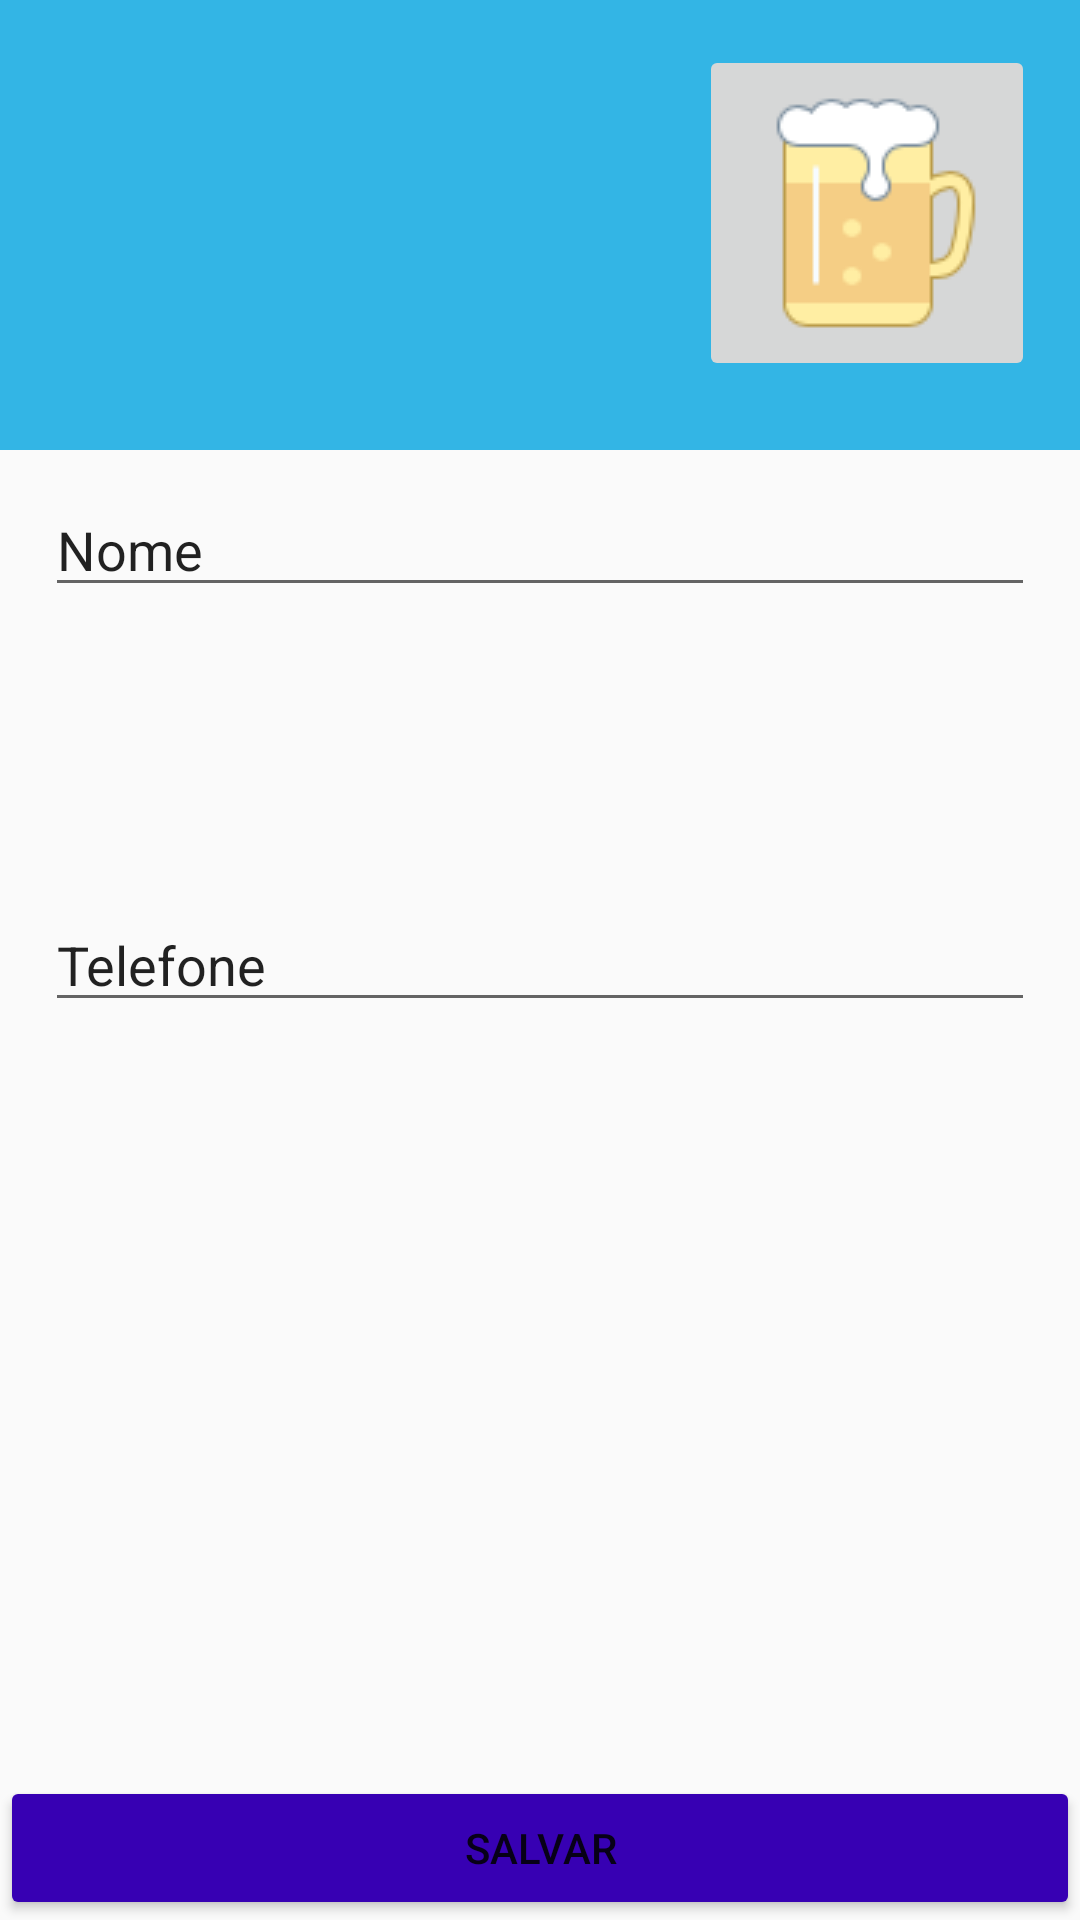

Icons on this 1080 × 1920 Android screen, each with its box as (x1, y1, x2, y2):
beer: (711, 63, 1023, 363)
